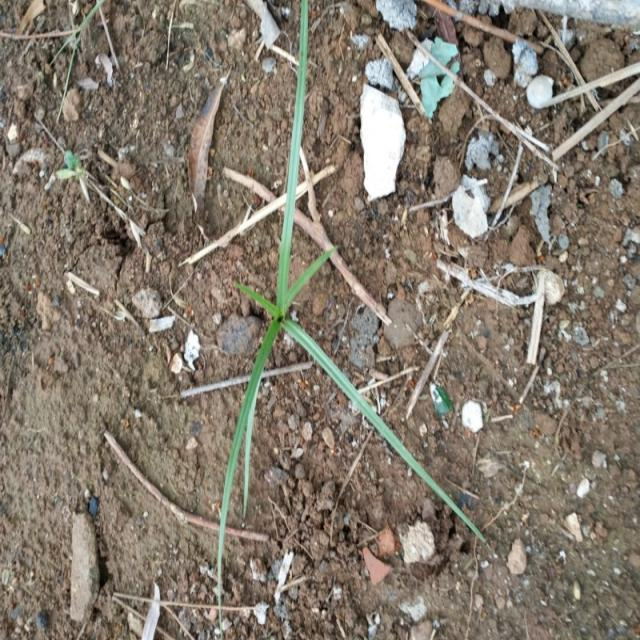sedge: (166, 41, 481, 554)
